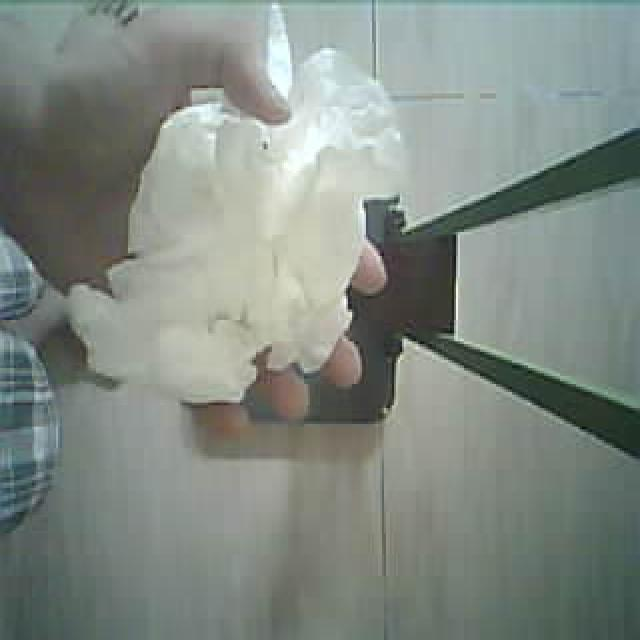Paper: (54, 49, 388, 400)
